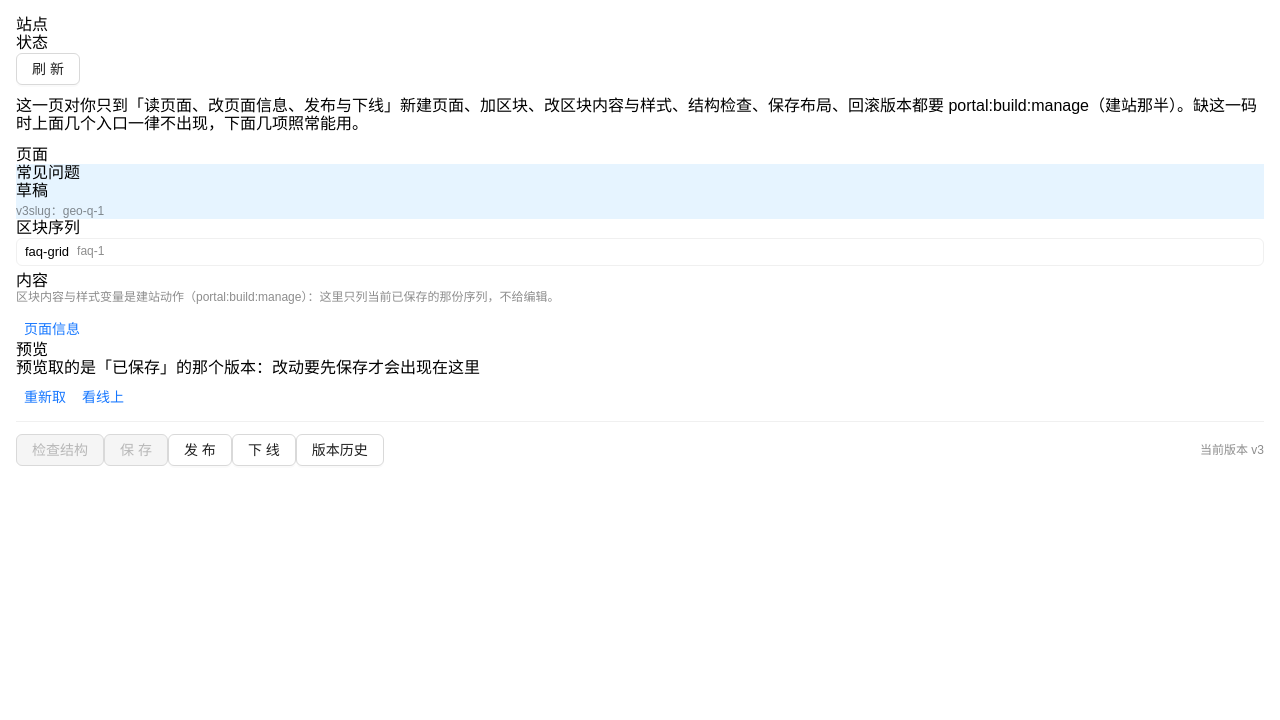
Test: 页面搭建：只持读页码的租户管理员 › 版本历史里没有「回滚到此版」，对比仍然给
The width and height of the screenshot is (1280, 720).
Click the button "版本历史".
click(340, 450)  # box [296,434,384,466]
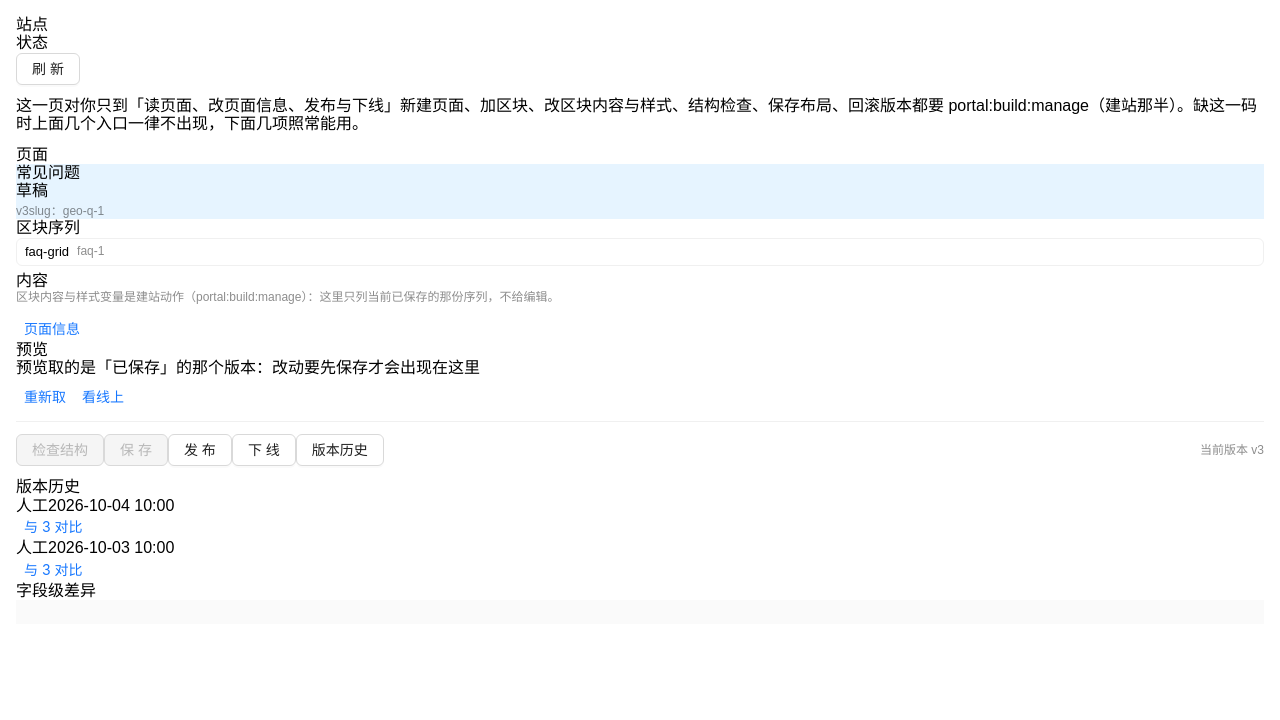
expect the element with class "a-drawer-stub" shows "与 3 对比": met, box [16,515,90,539]
